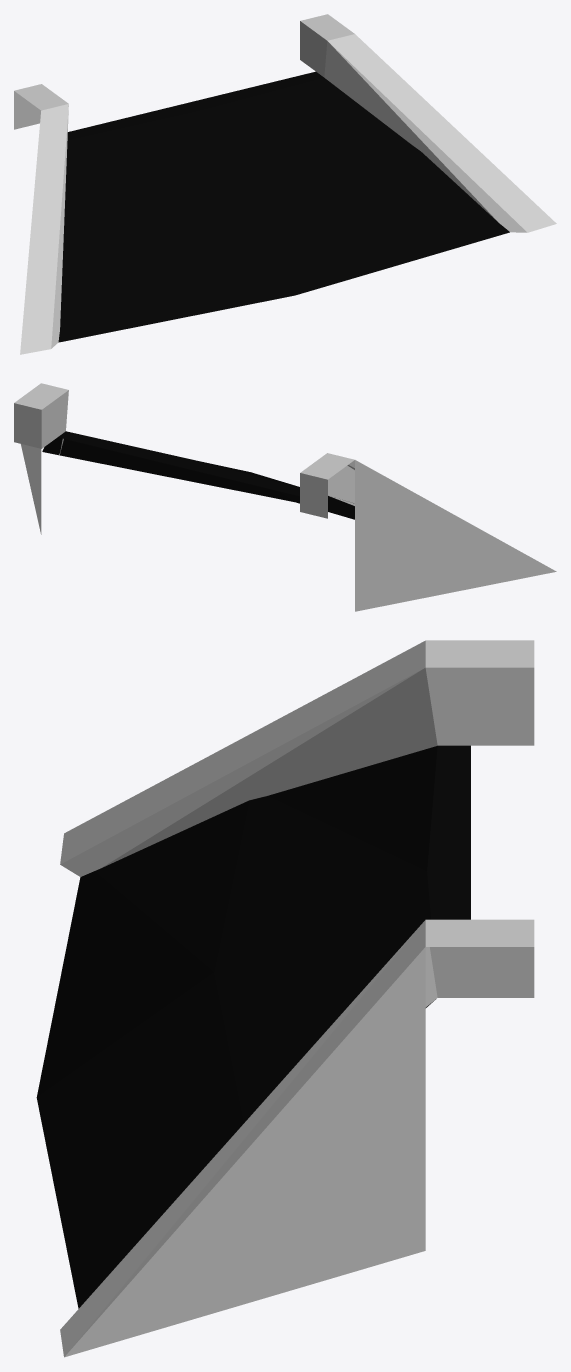
Rendered from palace_half_stair_collision_01.fbx.
The picture shows the model from 3 angles, top to bottom: view 1: azimuth 30°, elevation 25°; view 2: azimuth 150°, elevation 25°; view 3: azimuth 270°, elevation 25°; orthographic projection. The views are drawn at different scales.
Visible parts, largest first — view 1: palace_half_stair_collision_01-0; view 2: palace_half_stair_collision_01-0; view 3: palace_half_stair_collision_01-0.
Boxes of the visible parts, x1,y1,x2,y2 form: palace_half_stair_collision_01-0: (14, 14, 556, 354); palace_half_stair_collision_01-0: (14, 383, 556, 611); palace_half_stair_collision_01-0: (36, 640, 534, 1357).
Bounding box in the file's own units: 13.68 × 3.7 × 5.49.
